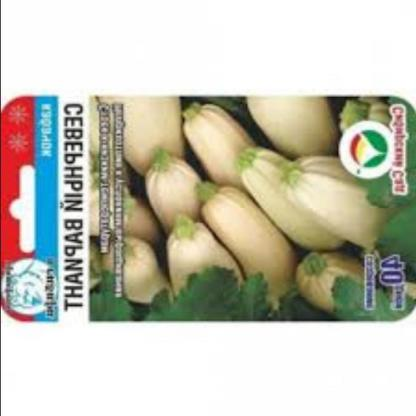vegetable marrow: (264, 137, 416, 267), (182, 169, 302, 304), (206, 144, 341, 258), (158, 199, 261, 318), (171, 94, 270, 208), (131, 130, 218, 233), (290, 238, 374, 324), (254, 101, 344, 180), (102, 235, 168, 308)
